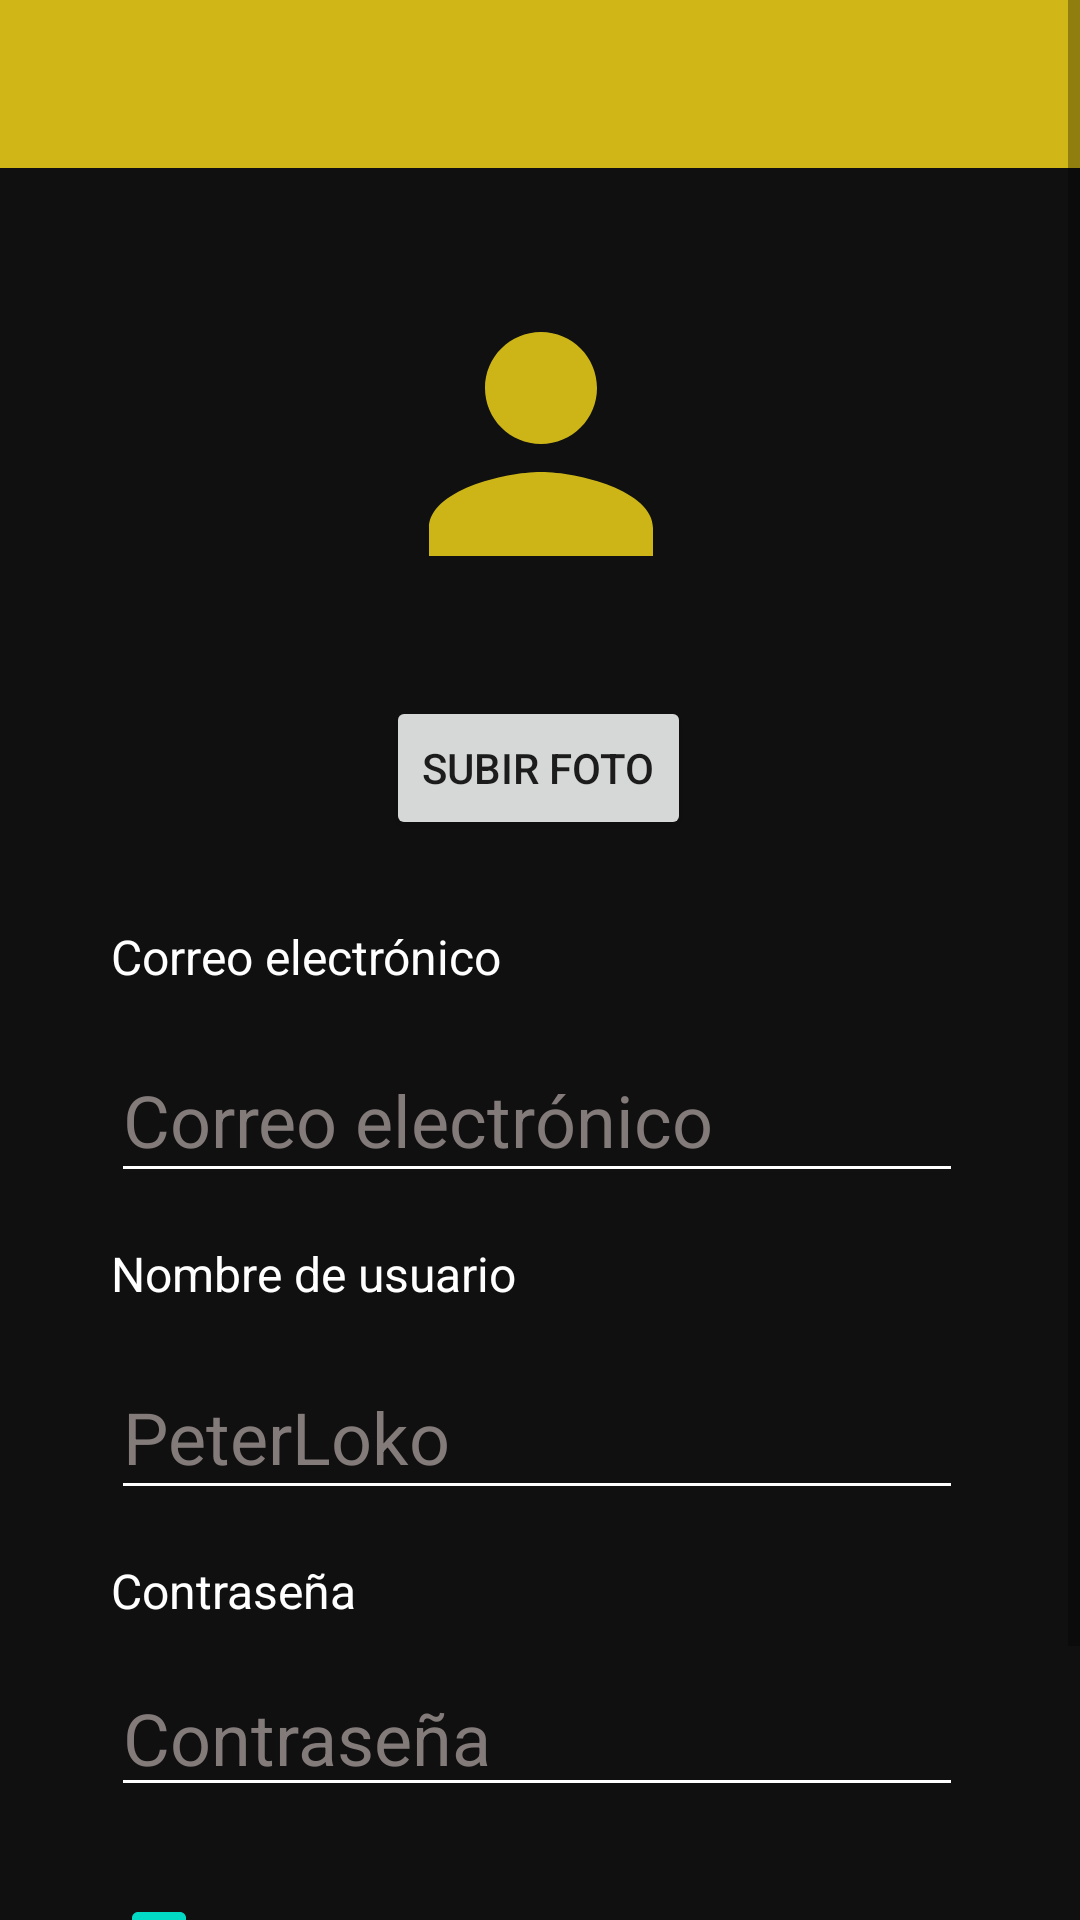

Point at icon controls on the screen. Image size 1080 × 1920, points as point (x, y).
person: point (541, 444)
